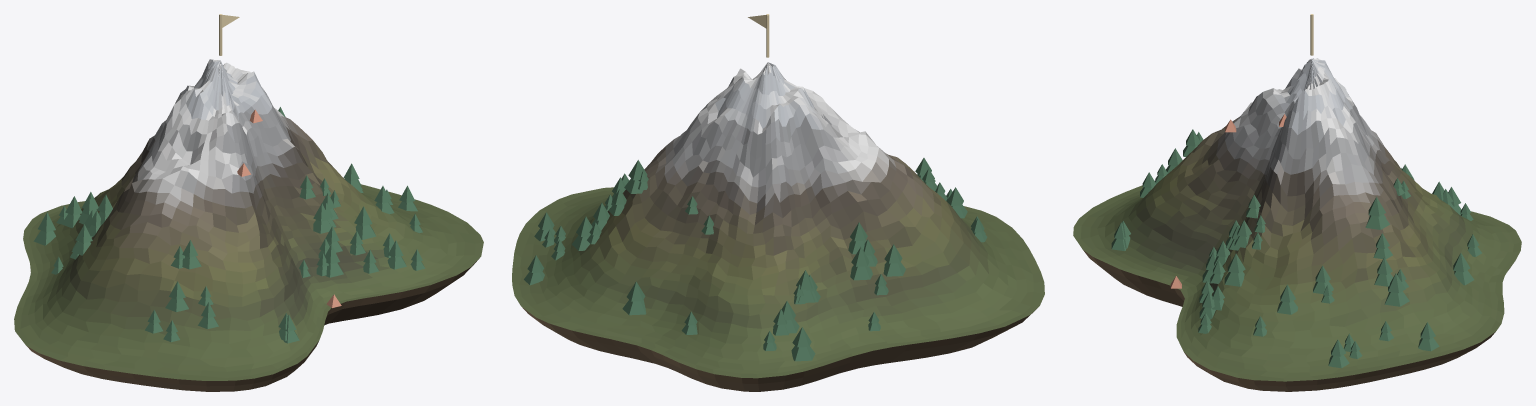
File: mountain.glb
3 renders of one model, left to right at view 1: azimuth 30°, elevation 25°; view 2: azimuth 150°, elevation 25°; view 3: azimuth 270°, elevation 25°, orthographic. The views are drawn at different scales.
Parts seen in each view (by area): view 1: Terrain, Trees; view 2: Terrain, Trees; view 3: Terrain, Trees.
Part boxes in pixels (x1=…): Terrain: x1=14, y1=59, x2=483, y2=391; Trees: x1=33, y1=107, x2=424, y2=343; Terrain: x1=512, y1=62, x2=1044, y2=391; Trees: x1=524, y1=158, x2=987, y2=361; Terrain: x1=1073, y1=58, x2=1521, y2=391; Trees: x1=1111, y1=129, x2=1481, y2=368.
Size of the model in its own units: 3.98 by 2.35 by 3.41.
